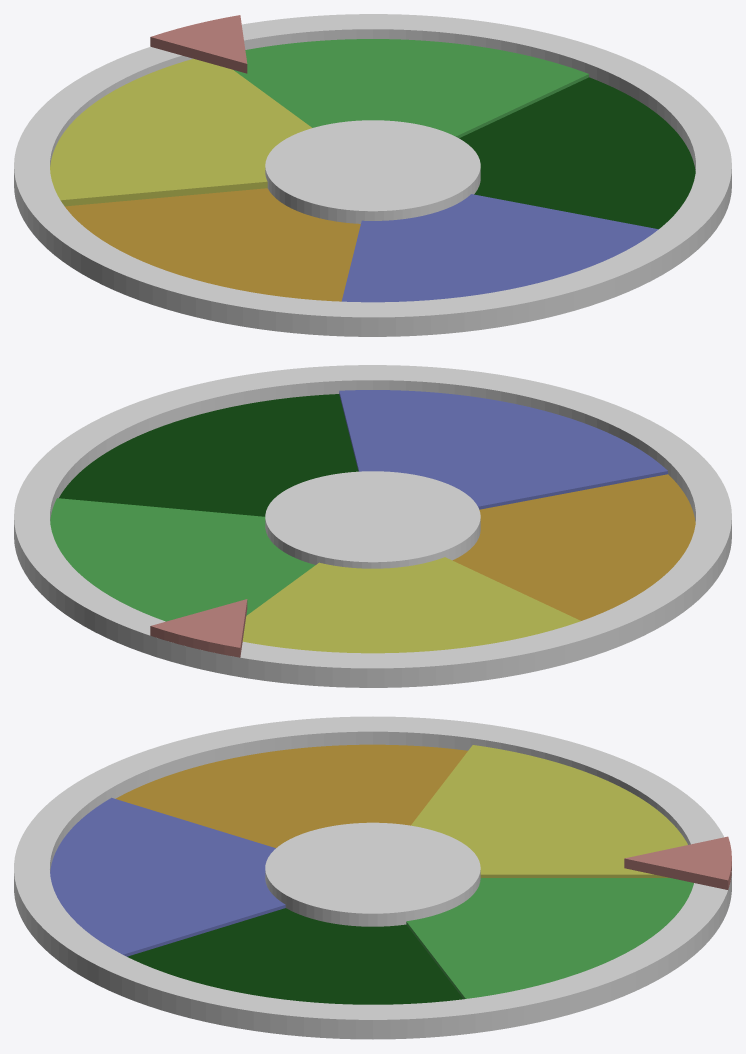
3 views of the same model, one above another, from view 1: azimuth 30°, elevation 25°; view 2: azimuth 150°, elevation 25°; view 3: azimuth 270°, elevation 25° (orthographic).
Visible parts, largest first — view 1: 3MFMeshParent_29, 3MFMeshParent_26, 3MFMeshParent_23, 3MFMeshParent_22, 3MFMeshParent_24, 3MFMeshParent_25, 3MFMeshParent_28, 3MFMeshParent_27; view 2: 3MFMeshParent_29, 3MFMeshParent_24, 3MFMeshParent_23, 3MFMeshParent_25, 3MFMeshParent_26, 3MFMeshParent_22, 3MFMeshParent_28, 3MFMeshParent_27; view 3: 3MFMeshParent_29, 3MFMeshParent_24, 3MFMeshParent_26, 3MFMeshParent_22, 3MFMeshParent_25, 3MFMeshParent_23, 3MFMeshParent_28, 3MFMeshParent_27.
Part boxes in pixels (x1,y1,x2,y2): 3MFMeshParent_29: [14, 14, 731, 336]; 3MFMeshParent_26: [50, 58, 311, 206]; 3MFMeshParent_23: [459, 77, 695, 229]; 3MFMeshParent_22: [234, 39, 588, 137]; 3MFMeshParent_24: [341, 194, 658, 302]; 3MFMeshParent_25: [65, 188, 360, 301]; 3MFMeshParent_28: [265, 120, 480, 223]; 3MFMeshParent_27: [150, 15, 247, 73]; 3MFMeshParent_29: [14, 365, 731, 687]; 3MFMeshParent_24: [339, 390, 667, 509]; 3MFMeshParent_23: [59, 394, 358, 516]; 3MFMeshParent_25: [452, 474, 695, 620]; 3MFMeshParent_26: [242, 557, 580, 653]; 3MFMeshParent_22: [50, 498, 315, 621]; 3MFMeshParent_28: [265, 471, 480, 568]; 3MFMeshParent_27: [150, 599, 247, 657]; 3MFMeshParent_29: [14, 716, 731, 1039]; 3MFMeshParent_24: [50, 797, 285, 956]; 3MFMeshParent_26: [411, 745, 687, 877]; 3MFMeshParent_22: [406, 878, 693, 999]; 3MFMeshParent_25: [115, 744, 467, 847]; 3MFMeshParent_23: [127, 908, 463, 1004]; 3MFMeshParent_28: [265, 822, 480, 926]; 3MFMeshParent_27: [624, 836, 731, 889].
Size of the model in its own units: 200 by 9 by 200.
